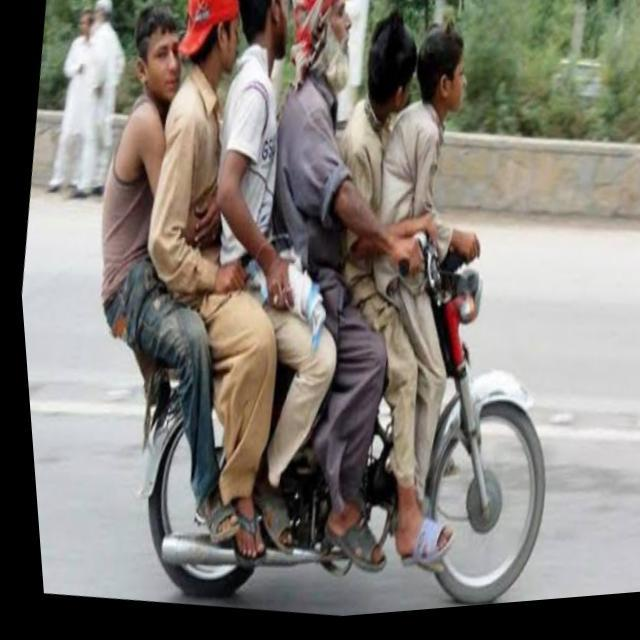Nonhelmet: (133, 8, 192, 102), (419, 22, 420, 22)
